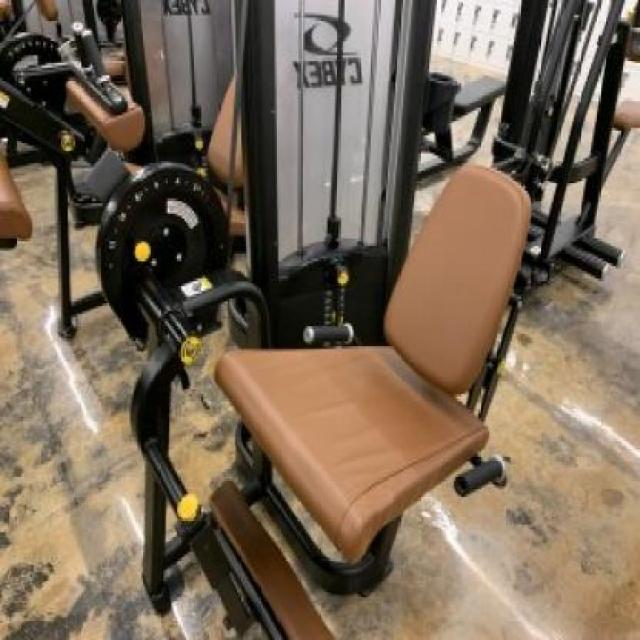leg extension: (95, 0, 532, 640)
